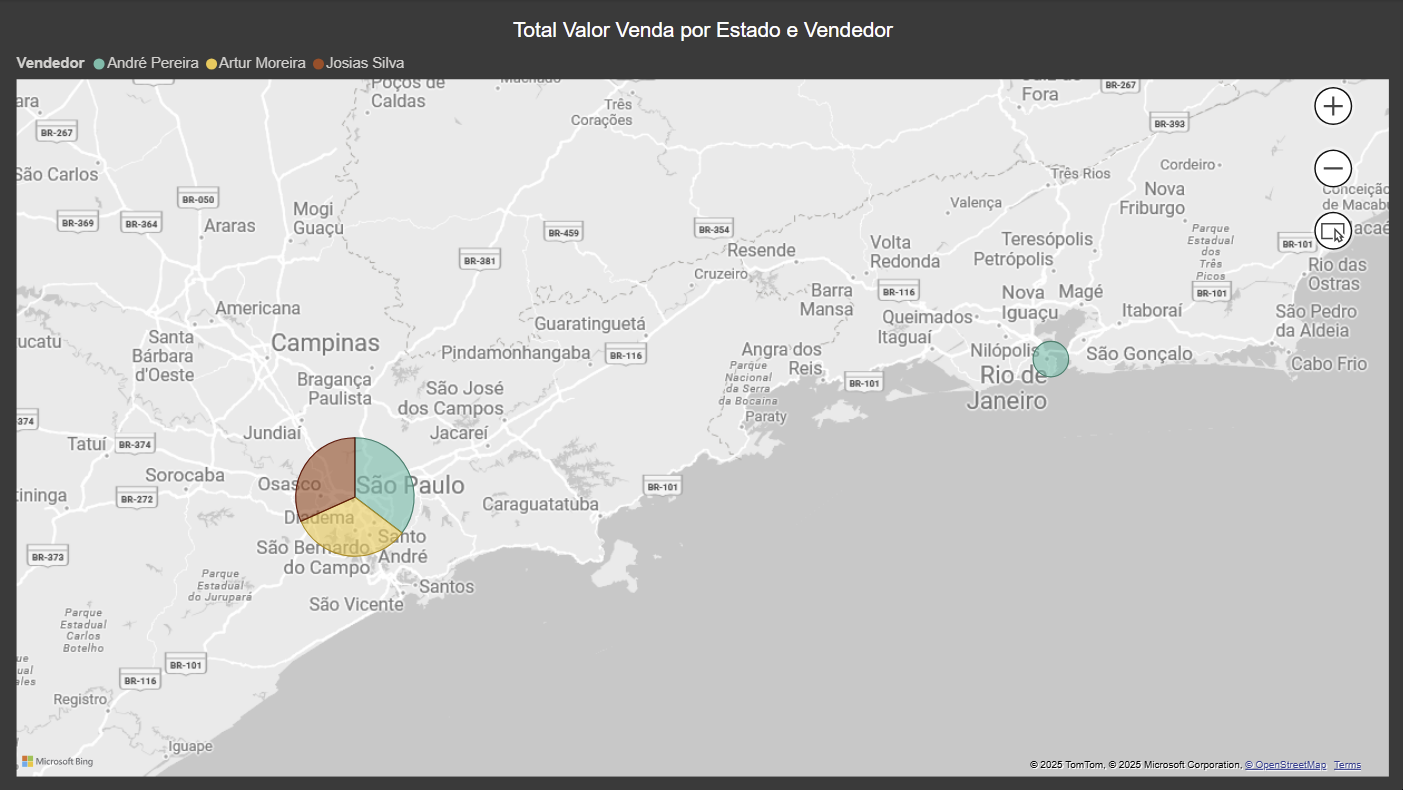

Layout of this report page (visuals, bound fields, positions):
{"tool":"powerbi","page":{"name":"Performance dos Vendedores Por Região","canvas":[1280,720],"ordinal":4},"visuals":[{"type":"map","fields":{"Category":["Vendas.Estado"],"Size":["Sum(Vendas.ValorVenda)"],"Series":["Vendas.Vendedor"]},"box":[18.7,17.4,1242.3,686.6],"z":0}]}

Visuals, with their boxes in screenshot pixels (x1, y1, x2, y2), scaled from the page's 1280x720 canvas onto the 1403x790 screenshot:
map - Vendas.Estado x Sum(Vendas.ValorVenda): x1=20 y1=19 x2=1382 y2=772
